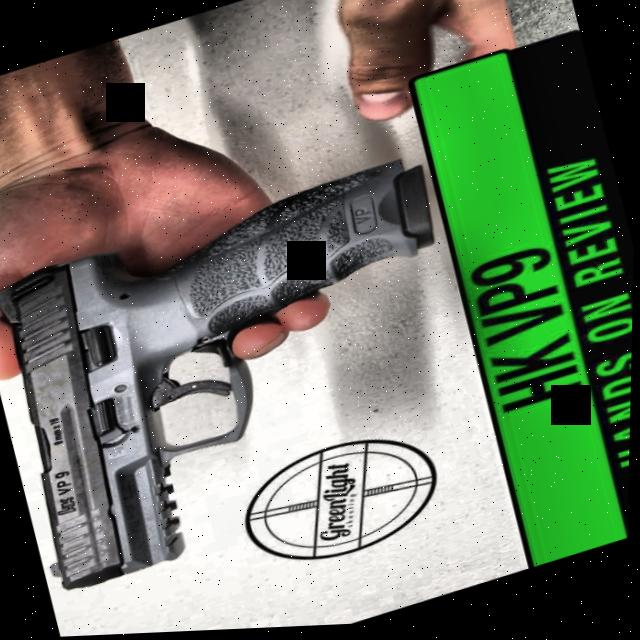HKVP9: (0, 144, 503, 602)
